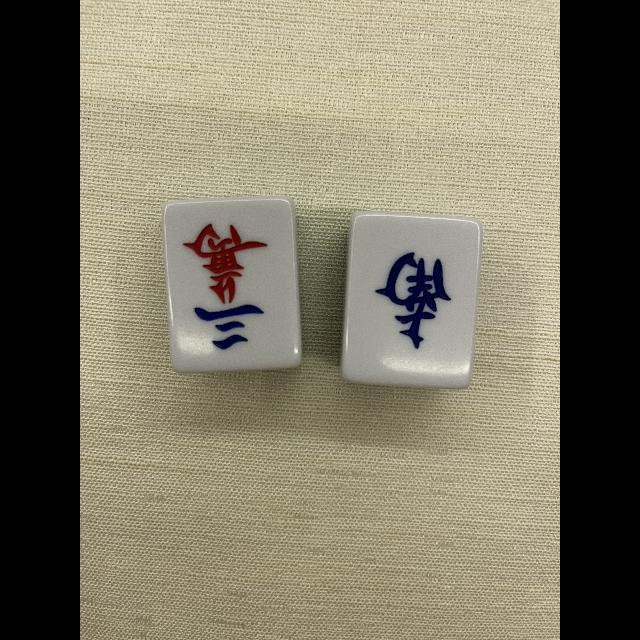c3: (166, 200, 298, 368)
ws: (348, 214, 470, 384)
